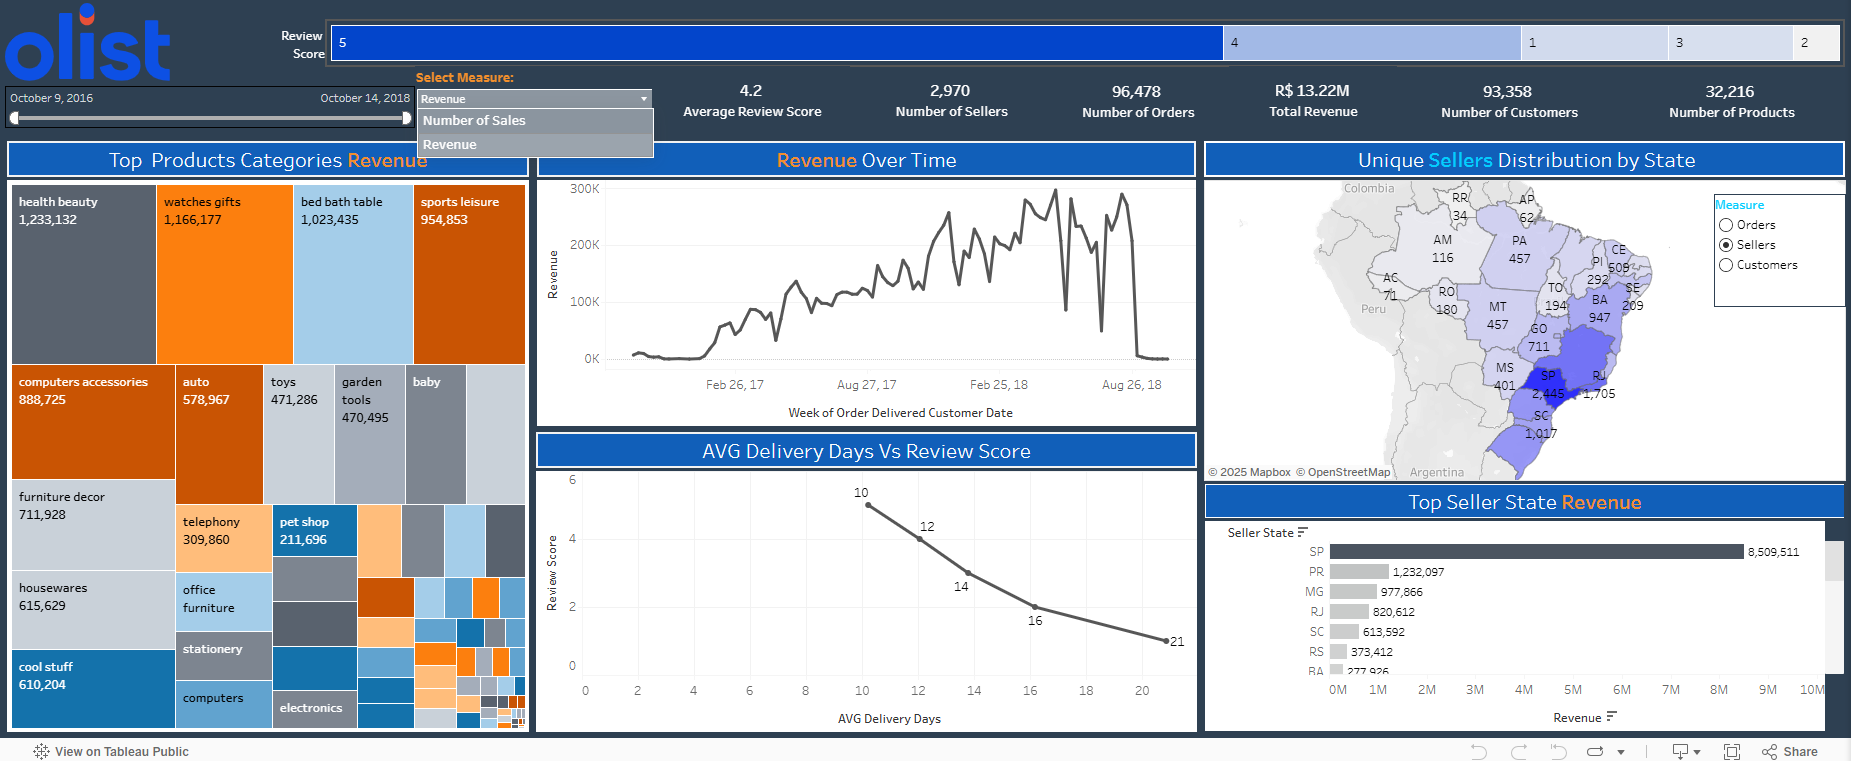

The dashboard page shown, as its layout file describes it:
{"tool":"tableau","page":{"name":"Olist Store Dashboard","canvas":[1000,1000],"units":"permille","ordinal":0},"visuals":[{"type":"image","box":[2.5,4,129.6,105.8]},{"type":"worksheet","title":"Review Score ","mark":"Automatic","box":[175.7,25.4,821.2,65.6]},{"type":"text","box":[140.1,26.8,35.6,64.3]},{"type":"parameter","param":"[Parameters].[Parameter 1]","box":[223.9,89,130.5,89]},{"type":"worksheet","title":"AVG Review Score","mark":"Automatic","box":[352.4,89,106.9,90.9]},{"type":"worksheet","title":"Total Revenue","mark":"Automatic","box":[664,89.7,90.9,91]},{"type":"worksheet","title":"Number Of Sellers","mark":"Automatic","box":[462.5,91,102,88.4]},{"type":"worksheet","title":"Number of Orders","mark":"Automatic","box":[566.3,91,95.8,89.7]},{"type":"worksheet","title":"Number of Customers","mark":"Automatic","box":[756.1,91,116.7,91]},{"type":"worksheet","title":"Number of Products","mark":"Automatic","box":[875.3,91,119.2,91]},{"type":"filter","title":"AVG Delivery Days Vs Review Score","param":"[federated.1hp3x6c0k42qbs14sy2fb09rffg6].[twk:order_delivered_customer_date:qk]","box":[2.5,116.5,221.7,57.6]},{"type":"worksheet","title":"Distribution of Orders, Sellers, and Customers","mark":"Automatic","box":[650.3,191.1,347,460.1]},{"type":"worksheet","title":"Products categories Sales","mark":"Automatic","box":[3.7,191.4,281.9,800.5]},{"type":"worksheet","title":"Sales Distribution Over Time","mark":"Automatic","rows":["Calculation_1563312071946731521"],"cols":["order_delivered_customer_date"],"box":[289.9,191.4,356.3,385.5]},{"type":"parameter","param":"[Parameters].[Parameter 2]","box":[926,263.4,71.3,152.1]},{"type":"worksheet","title":"AVG Delivery Days Vs Review Score","mark":"Automatic","rows":["ReviewScore"],"cols":["DeliveryDaysTime"],"box":[289.3,585,357.5,407]},{"type":"worksheet","title":"Top Seller State Revenue","mark":"Automatic","rows":["seller_state"],"cols":["Calculation_1563312071946731521"],"box":[651.1,656,345.2,334.7]}]}

Visuals, with their boxes on the dashboard's canvas, which has no fixed pixel size, in thousandths of its width and height (x1, y1, x2, y2). These are canvas units, not pixel positions in the 1852x761 screenshot, which may show the page scaled, cropped or inside an application window:
image: bbox(2, 4, 132, 110)
"Review Score " worksheet: bbox(176, 25, 997, 91)
text: bbox(140, 27, 176, 91)
parameter: bbox(224, 89, 354, 178)
"AVG Review Score" worksheet: bbox(352, 89, 459, 180)
"Total Revenue" worksheet: bbox(664, 90, 755, 181)
"Number Of Sellers" worksheet: bbox(462, 91, 564, 179)
"Number of Orders" worksheet: bbox(566, 91, 662, 181)
"Number of Customers" worksheet: bbox(756, 91, 873, 182)
"Number of Products" worksheet: bbox(875, 91, 994, 182)
"AVG Delivery Days Vs Review Score" filter: bbox(2, 116, 224, 174)
"Distribution of Orders, Sellers, and Customers" worksheet: bbox(650, 191, 997, 651)
"Products categories Sales" worksheet: bbox(4, 191, 286, 992)
"Sales Distribution Over Time" worksheet: bbox(290, 191, 646, 577)
parameter: bbox(926, 263, 997, 416)
"AVG Delivery Days Vs Review Score" worksheet: bbox(289, 585, 647, 992)
"Top Seller State Revenue" worksheet: bbox(651, 656, 996, 991)
